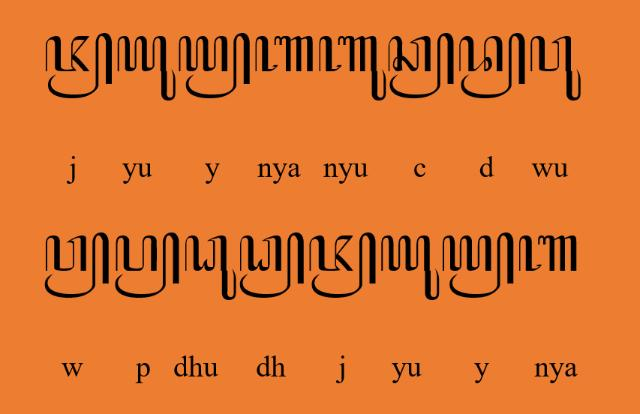-c: (388, 32, 454, 100)
-d: (458, 32, 526, 100)
-dh: (240, 232, 304, 298)
-j: (309, 232, 377, 300), (45, 32, 113, 98)
-p: (114, 231, 180, 300)
-w: (43, 232, 109, 298)
-y: (178, 32, 252, 100), (442, 231, 514, 299)
dhu: (183, 234, 237, 302)
ny1: (253, 34, 314, 74), (518, 235, 578, 273)
nyu1: (318, 34, 388, 102)
wu: (530, 35, 582, 101)
yu: (381, 233, 441, 300), (117, 34, 177, 100)
